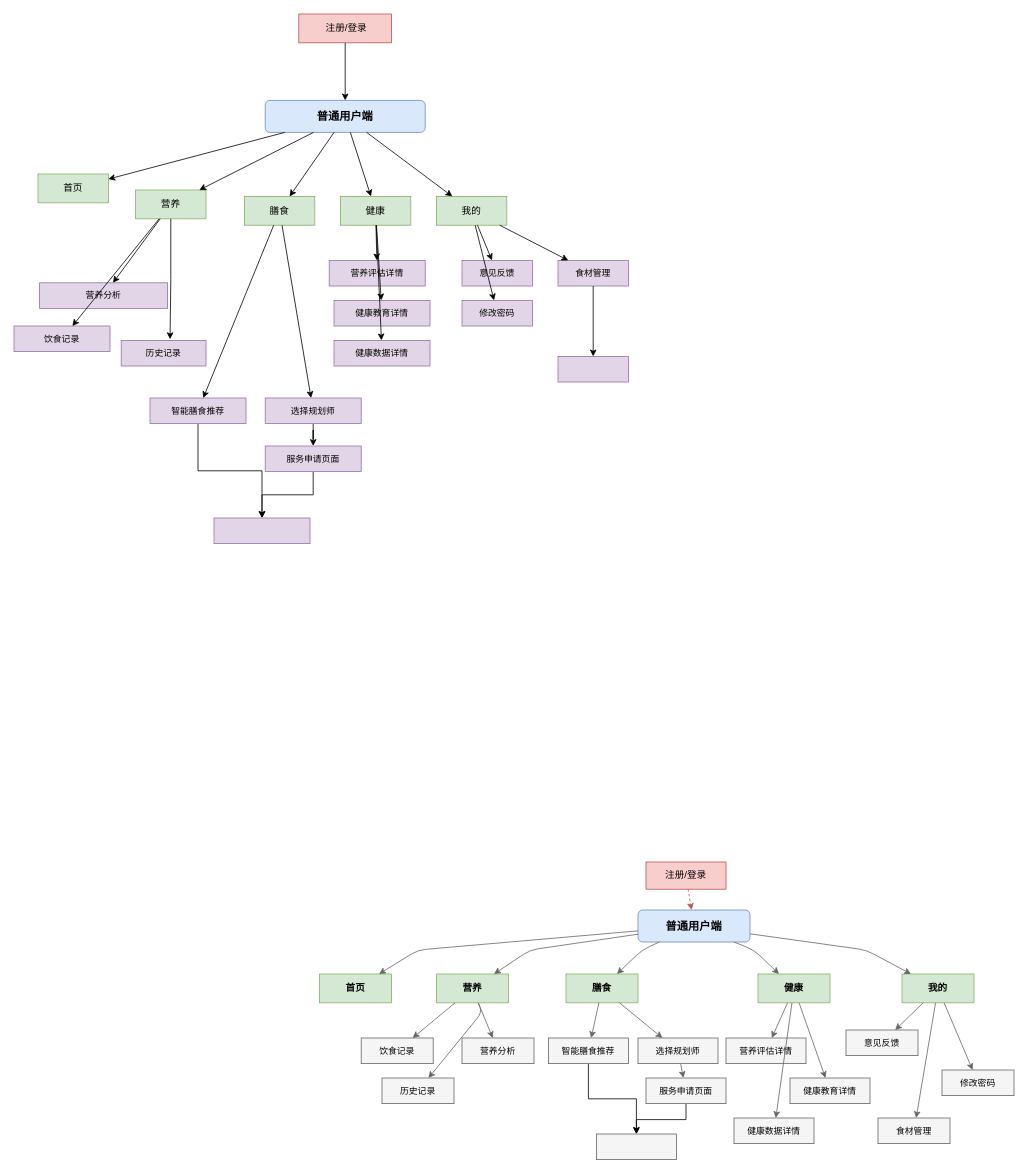
The diagram is 1028 pixels wide and 1174 high, and some of its shapes have lost their labels. Here are the shapes that lost their labels. From the top down, the centre of each, then its label:
(592,369): 新增食材
(261,530): 膳食计划详情
(636,1146): 膳食计划管理
